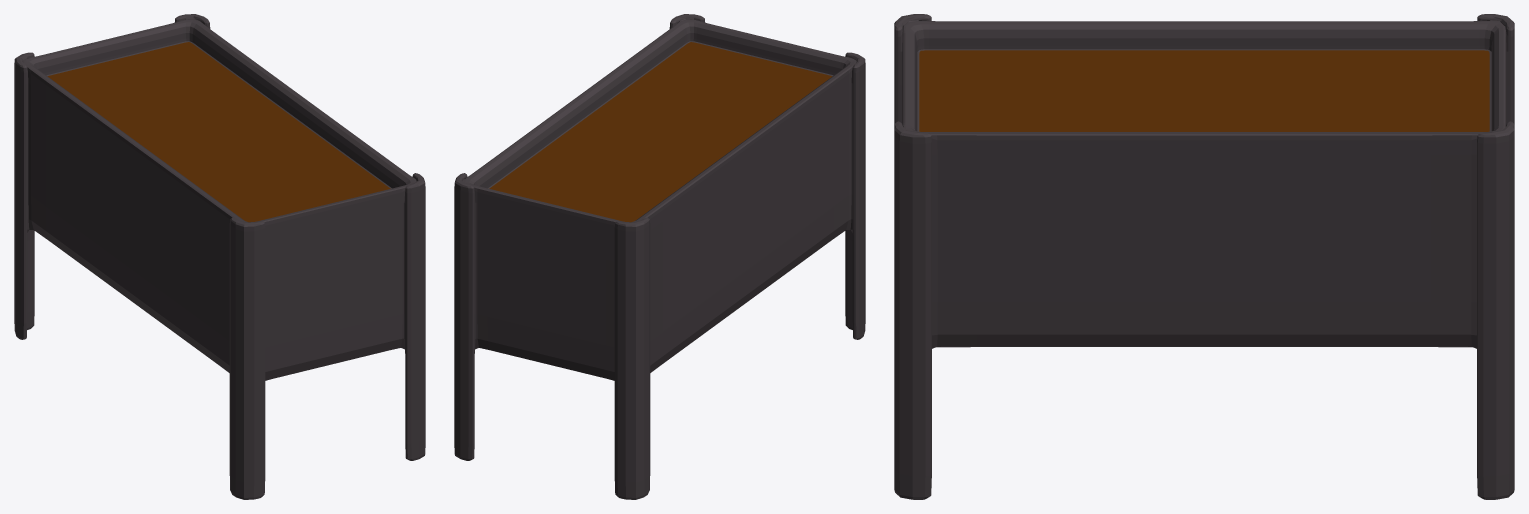
File: planterbox 1.fbx
The picture shows the model from 3 angles, left to right: view 1: azimuth 30°, elevation 25°; view 2: azimuth 150°, elevation 25°; view 3: azimuth 270°, elevation 25°; orthographic projection. The views are drawn at different scales.
Visible parts, largest first — view 1: planterbox; view 2: planterbox; view 3: planterbox.
Part boxes in pixels (x1,y1,x2,y2): planterbox: [14, 14, 425, 499]; planterbox: [454, 14, 865, 499]; planterbox: [894, 14, 1514, 499].
Bounding box in the file's own units: 46.87 × 65.32 × 101.
